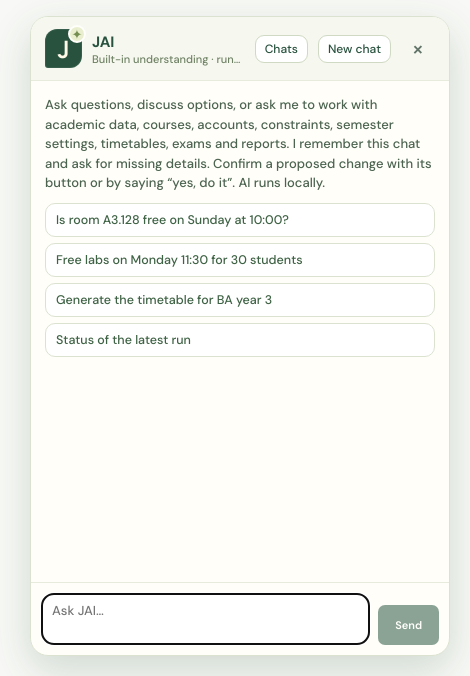
JAI asks when unclear; an answer button or a typed answer replies
In the text box named "Message to JAI": (206, 619) 41,593 -> 370,645, type "i want a schedule for ba year 3"
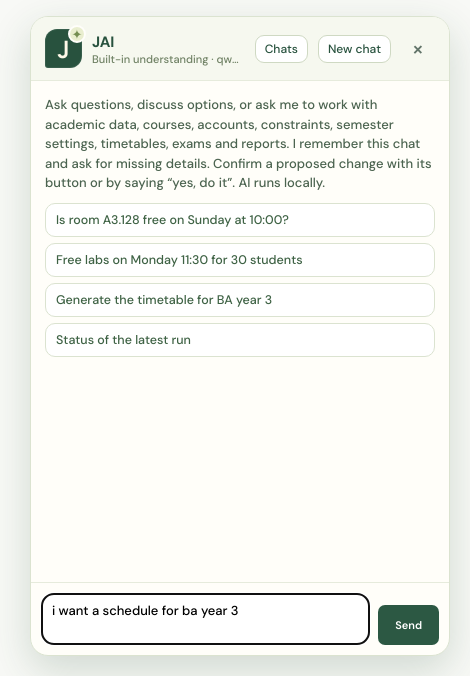
Click the button "Send": (409, 625) 378,605 -> 439,645
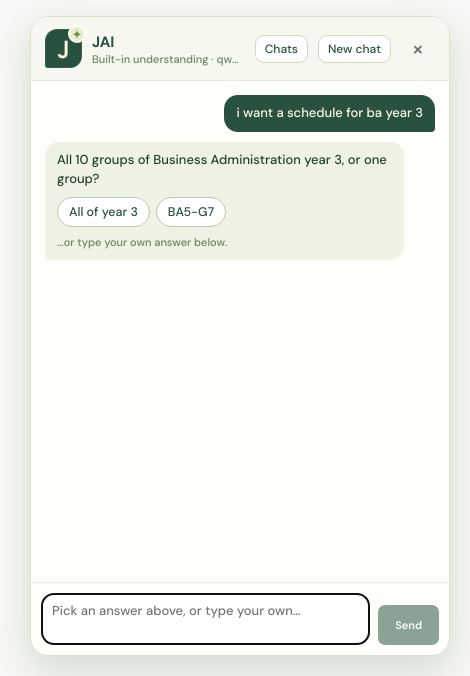
Expected: the button "BA5-G7" is shown
Expected: the text box with placeholder "Pick an answer above, or type your own…" is shown, 41,593 -> 370,645
Click the button "BA5-G7": (191, 212) 156,196 -> 226,227
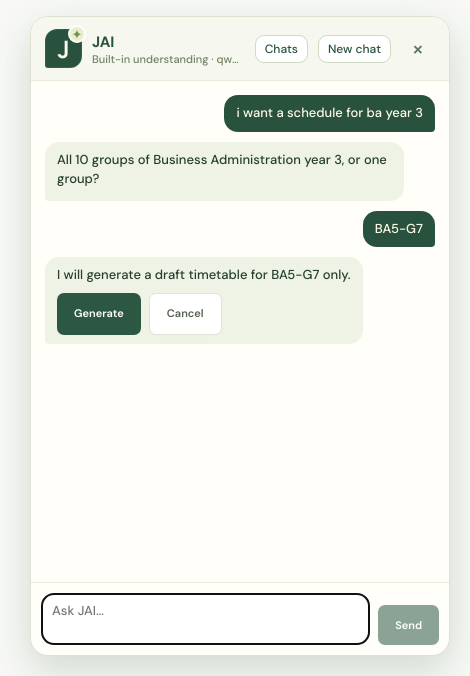
Expected: the text "I will generate a draft timetable for BA5-G7 only." is shown, 57,266 -> 350,285
Expected: the button "All of year 3" is gone
